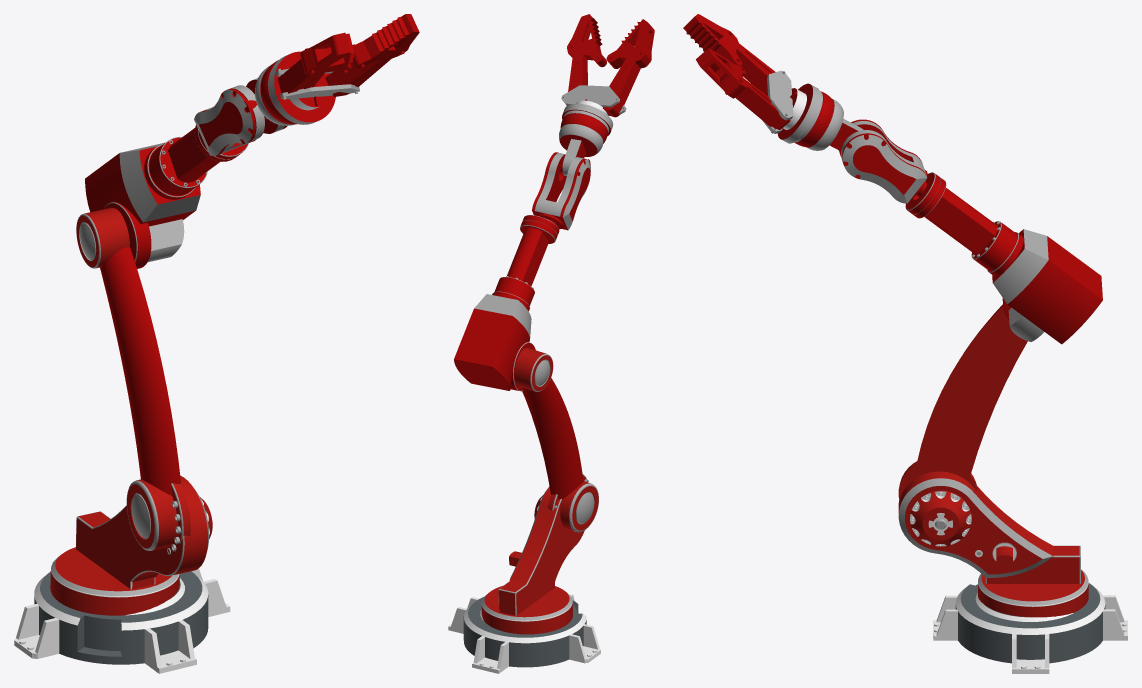
The model's file is robot_arm2.glb.
3 views of the same model, side by side, from view 1: azimuth 30°, elevation 25°; view 2: azimuth 150°, elevation 25°; view 3: azimuth 270°, elevation 25° (orthographic). The views are drawn at different scales.
Visible parts, largest first — view 1: part3, part1, part2, part4, part5, part9, part7, part8, part6; view 2: part4, part2, part3, part1, part5, part8, part6, part9, part7; view 3: part2, part4, part1, part3, part5, part7, part9, part8, part6.
Part boxes in pixels (x1=…): part3: x1=76, y1=207, x2=190, y2=554; part1: x1=14, y1=562, x2=230, y2=673; part2: x1=50, y1=475, x2=212, y2=615; part4: x1=85, y1=125, x2=248, y2=268; part5: x1=194, y1=78, x2=287, y2=156; part9: x1=325, y1=14, x2=419, y2=96; part7: x1=268, y1=51, x2=359, y2=124; part8: x1=278, y1=32, x2=354, y2=93; part6: x1=244, y1=60, x2=297, y2=125; part4: x1=454, y1=215, x2=559, y2=391; part2: x1=481, y1=486, x2=584, y2=634; part3: x1=514, y1=348, x2=598, y2=532; part1: x1=448, y1=594, x2=600, y2=673; part5: x1=532, y1=152, x2=590, y2=230; part8: x1=603, y1=19, x2=654, y2=117; part6: x1=559, y1=110, x2=608, y2=175; part9: x1=566, y1=14, x2=606, y2=105; part7: x1=561, y1=85, x2=626, y2=135; part2: x1=898, y1=471, x2=1088, y2=617; part4: x1=905, y1=172, x2=1102, y2=344; part1: x1=933, y1=583, x2=1127, y2=673; part3: x1=898, y1=304, x2=1027, y2=500; part5: x1=838, y1=119, x2=927, y2=203; part7: x1=762, y1=70, x2=820, y2=143; part9: x1=696, y1=48, x2=790, y2=129; part8: x1=683, y1=14, x2=775, y2=95; part6: x1=794, y1=91, x2=863, y2=151.
Bounding box in the file's own units: 1.9 × 6.35 × 4.08.
